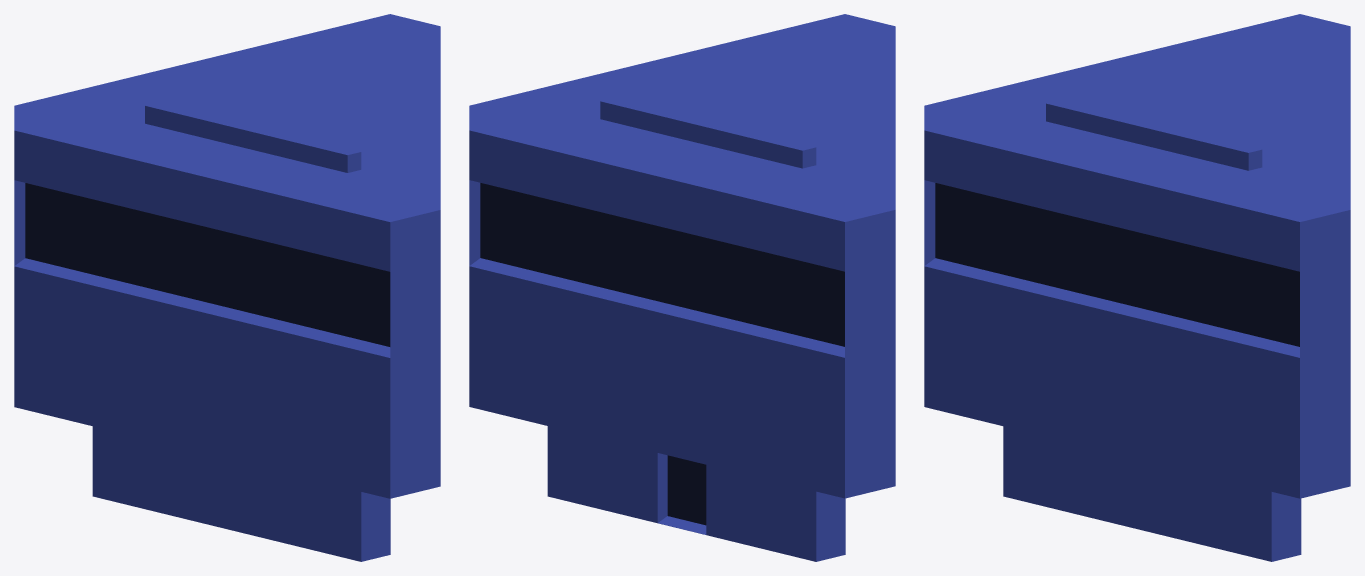
The model's file is triangle.fbx.
The picture shows the model from 3 angles, left to right: view 1: azimuth 30°, elevation 25°; view 2: azimuth 150°, elevation 25°; view 3: azimuth 270°, elevation 25°; orthographic projection.
Visible parts, largest first — view 1: triangle_top_1, triangle_base_; view 2: triangle_top_1, triangle_base_; view 3: triangle_top_1, triangle_base_.
Part boxes in pixels (x1,y1,x2,y2): triangle_top_1: (14,14,440,407); triangle_base_: (14,316,440,561); triangle_top_1: (469,14,895,407); triangle_base_: (469,316,895,561); triangle_top_1: (924,14,1350,407); triangle_base_: (924,315,1350,561).
Bounding box in the file's own units: 143 × 125 × 124.
